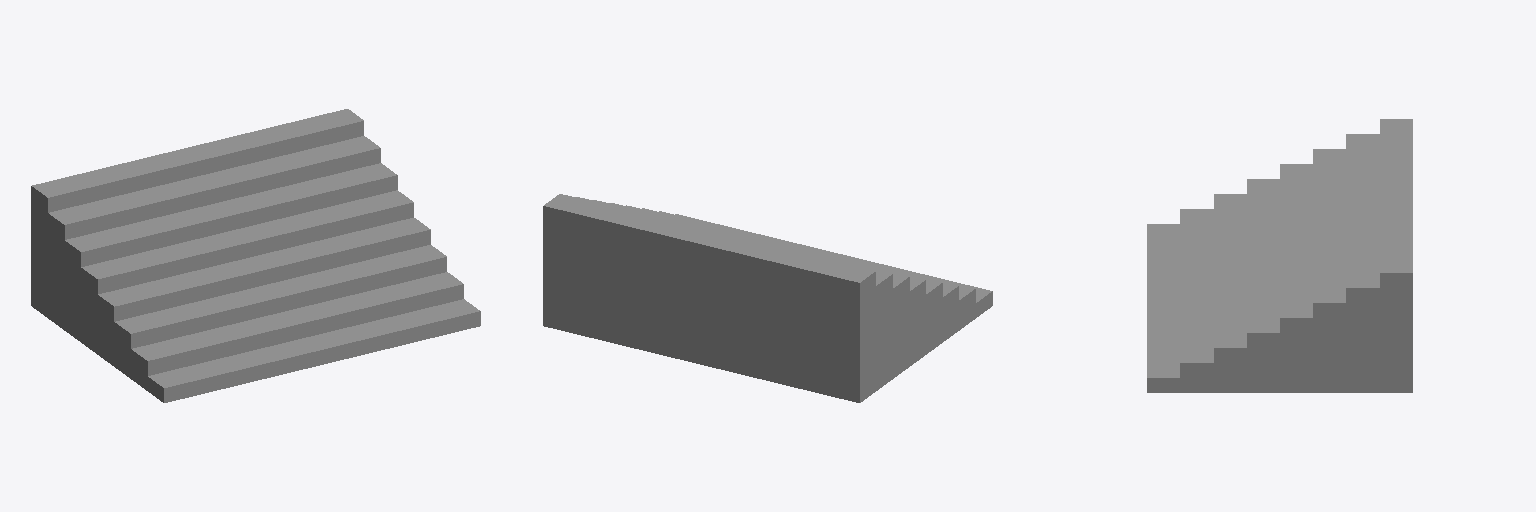
Rendered from wood_step.obj.
3 renders of one model, left to right at view 1: azimuth 30°, elevation 25°; view 2: azimuth 150°, elevation 25°; view 3: azimuth 270°, elevation 25°, orthographic.
Parts seen in each view (by area): view 1: Cube; view 2: Cube; view 3: Cube.
Part boxes in pixels (x1,y1,x2,y2): Cube: (31, 109, 480, 402); Cube: (543, 194, 992, 402); Cube: (1147, 119, 1412, 392).
Bounding box in the file's own units: 11 × 4 × 8.